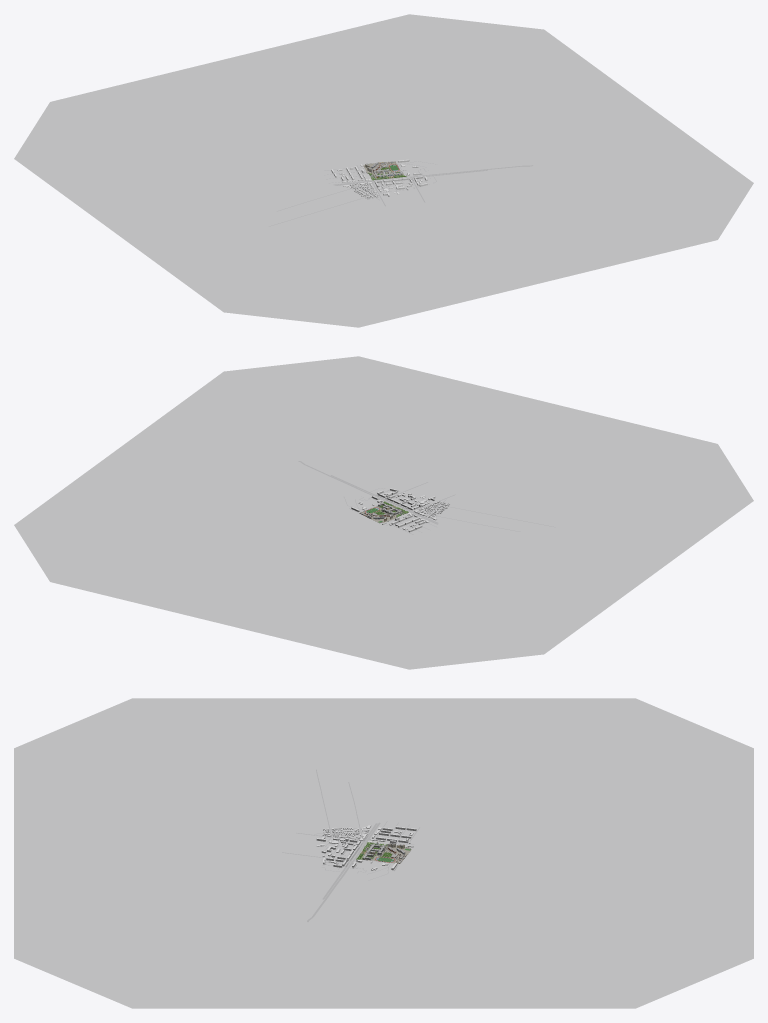
Rendered from campus.glb.
3 renders of one model, top to bottom at view 1: azimuth 30°, elevation 25°; view 2: azimuth 150°, elevation 25°; view 3: azimuth 270°, elevation 25°, orthographic. The views are drawn at different scales.
Parts seen in each view (by area): view 1: ground, context; view 2: ground, context; view 3: ground, context.
Boxes of the visible parts, left/top/right/bottom form: ground: left=14, top=14, right=753, bottom=327; context: left=269, top=159, right=532, bottom=226; ground: left=14, top=356, right=753, bottom=669; context: left=298, top=461, right=555, bottom=534; ground: left=14, top=698, right=753, bottom=1008; context: left=282, top=769, right=419, bottom=921.
Size of the model in its own units: 5584 by 30.28 by 5627.
Materials: 138 (16 with a texture image).
